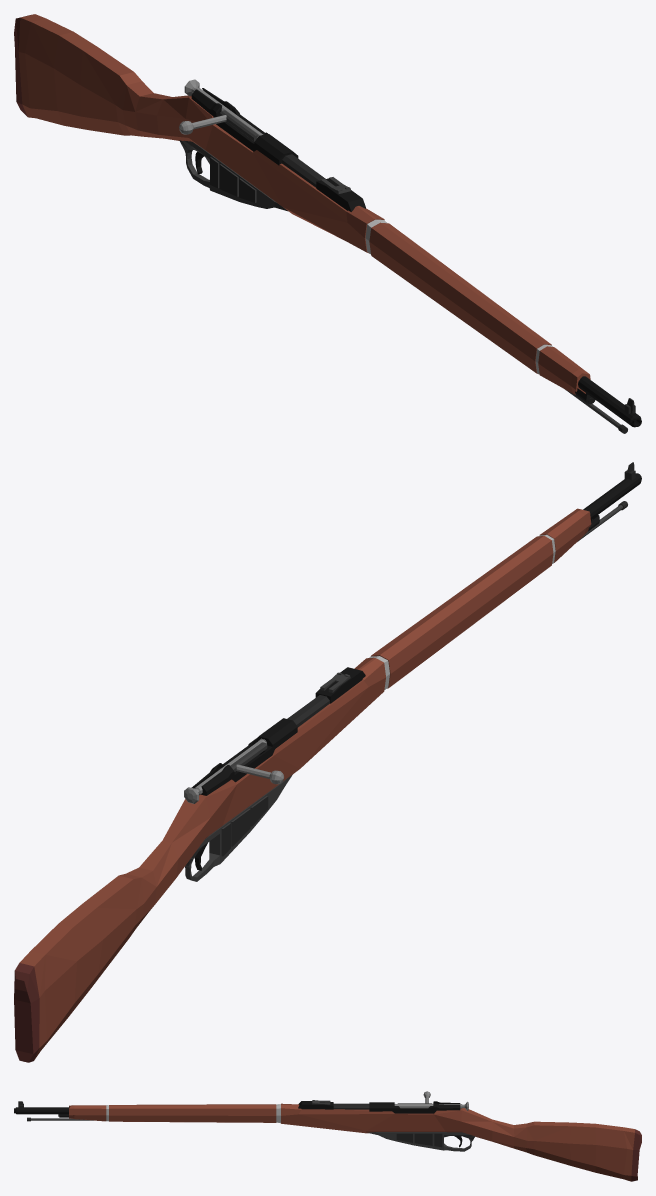
The model's file is Mosin.fbx.
3 views of the same model, one above another, from view 1: azimuth 30°, elevation 25°; view 2: azimuth 150°, elevation 25°; view 3: azimuth 270°, elevation 25° (orthographic). The views are drawn at different scales.
Visible parts, largest first — view 1: Wood, TriggerGuard, Chamber, Barrel, FrontSights; view 2: Wood, TriggerGuard, Chamber, Barrel; view 3: Wood, TriggerGuard, Chamber, Barrel, FrontSights, Thing1, Bolt, Ramrod.
Part boxes in pixels (bbox=[...]): Wood: bbox=[14, 14, 590, 394]; TriggerGuard: bbox=[179, 140, 288, 211]; Chamber: bbox=[191, 88, 298, 165]; Barrel: bbox=[578, 376, 641, 427]; FrontSights: bbox=[316, 178, 365, 211]; Wood: bbox=[14, 508, 591, 1062]; TriggerGuard: bbox=[185, 774, 292, 881]; Chamber: bbox=[191, 718, 297, 795]; Barrel: bbox=[583, 473, 641, 519]; Wood: bbox=[69, 1103, 641, 1181]; TriggerGuard: bbox=[367, 1132, 474, 1151]; Chamber: bbox=[369, 1101, 460, 1113]; Barrel: bbox=[14, 1107, 69, 1114]; FrontSights: bbox=[298, 1101, 333, 1109]; Thing1: bbox=[333, 1103, 369, 1109]; Bolt: bbox=[394, 1101, 468, 1110]; Ramrod: bbox=[27, 1117, 93, 1121].
Size of the model in its own units: 28.74 by 66.22 by 472.
1 material, 1 textured.
